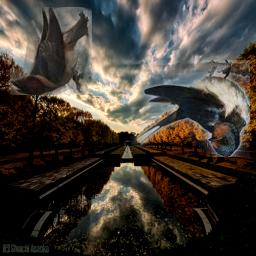Swallow: (124, 60, 250, 157), (10, 7, 92, 95)
